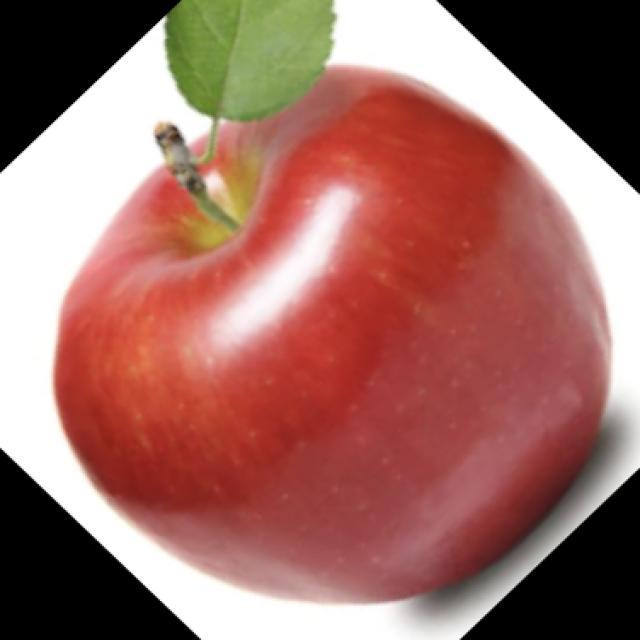Fresh Apple: (60, 65, 628, 590)
